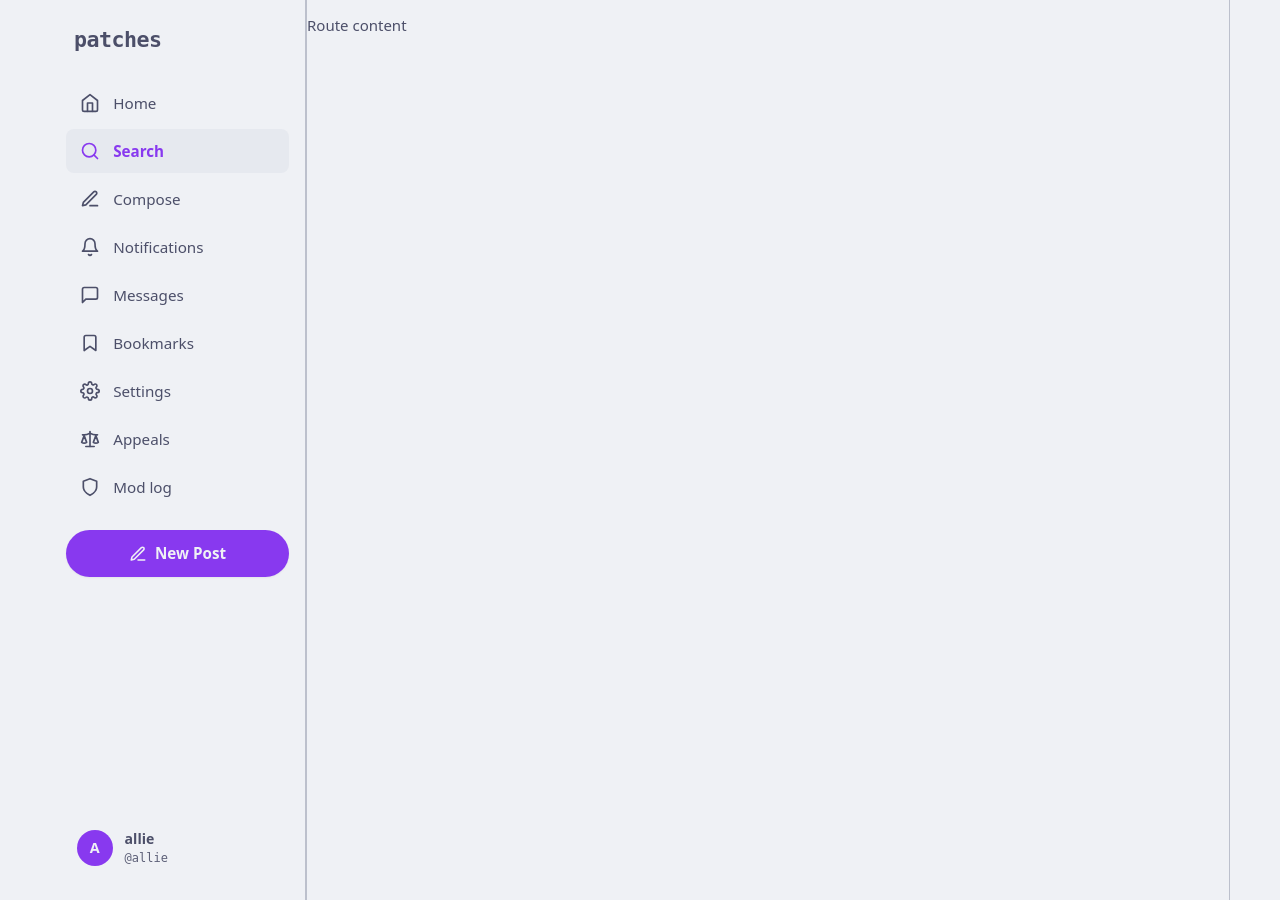
it: RootLayout › exposes every signed-in secondary destination from More
What coordinates should you click on to do the following:
click the button with aria-label "More"
I would click on:
 (178, 848)
Its box is left=66, top=820, right=289, bottom=876.
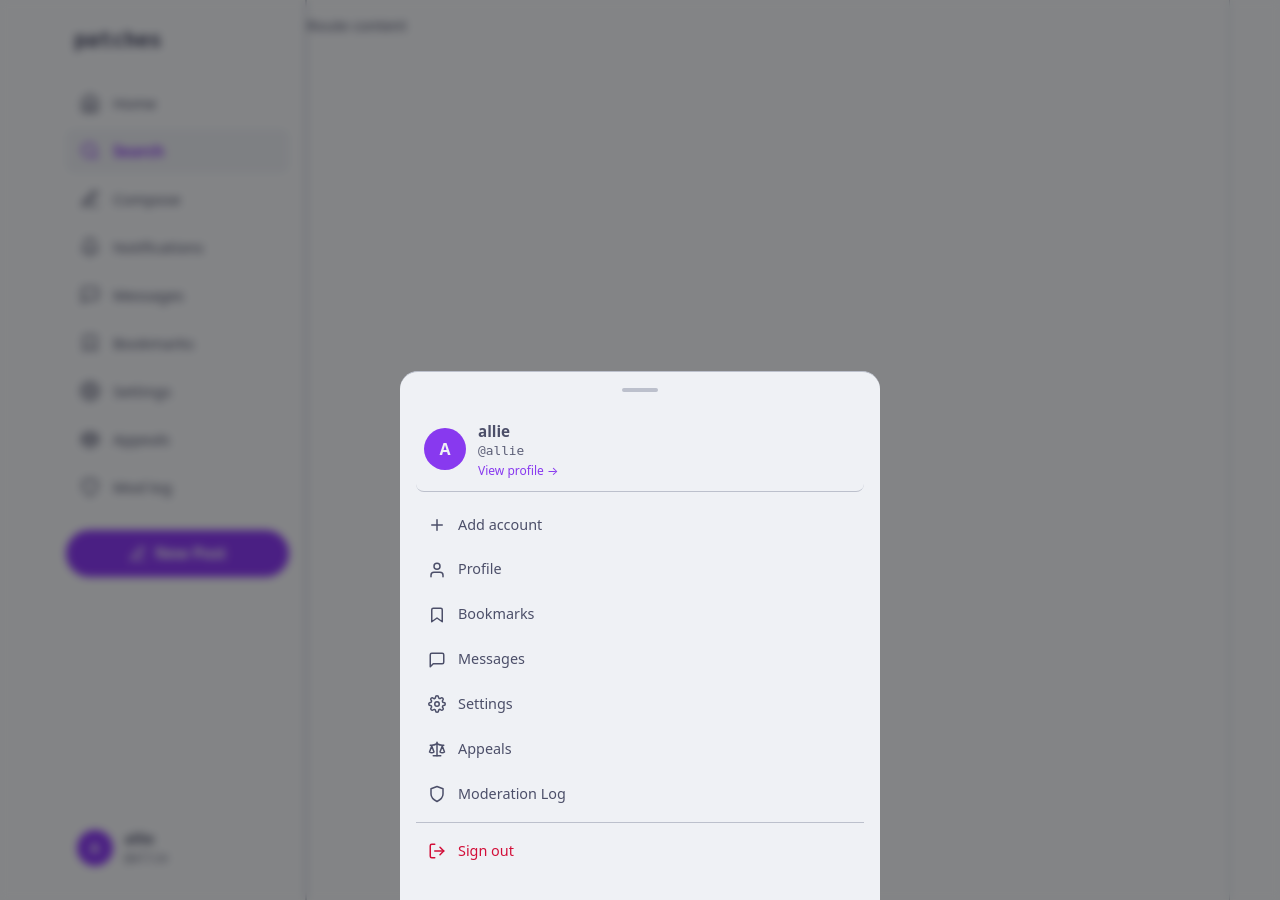
Result: the button with aria-label "More" is expanded at left=66, top=820, right=289, bottom=876
